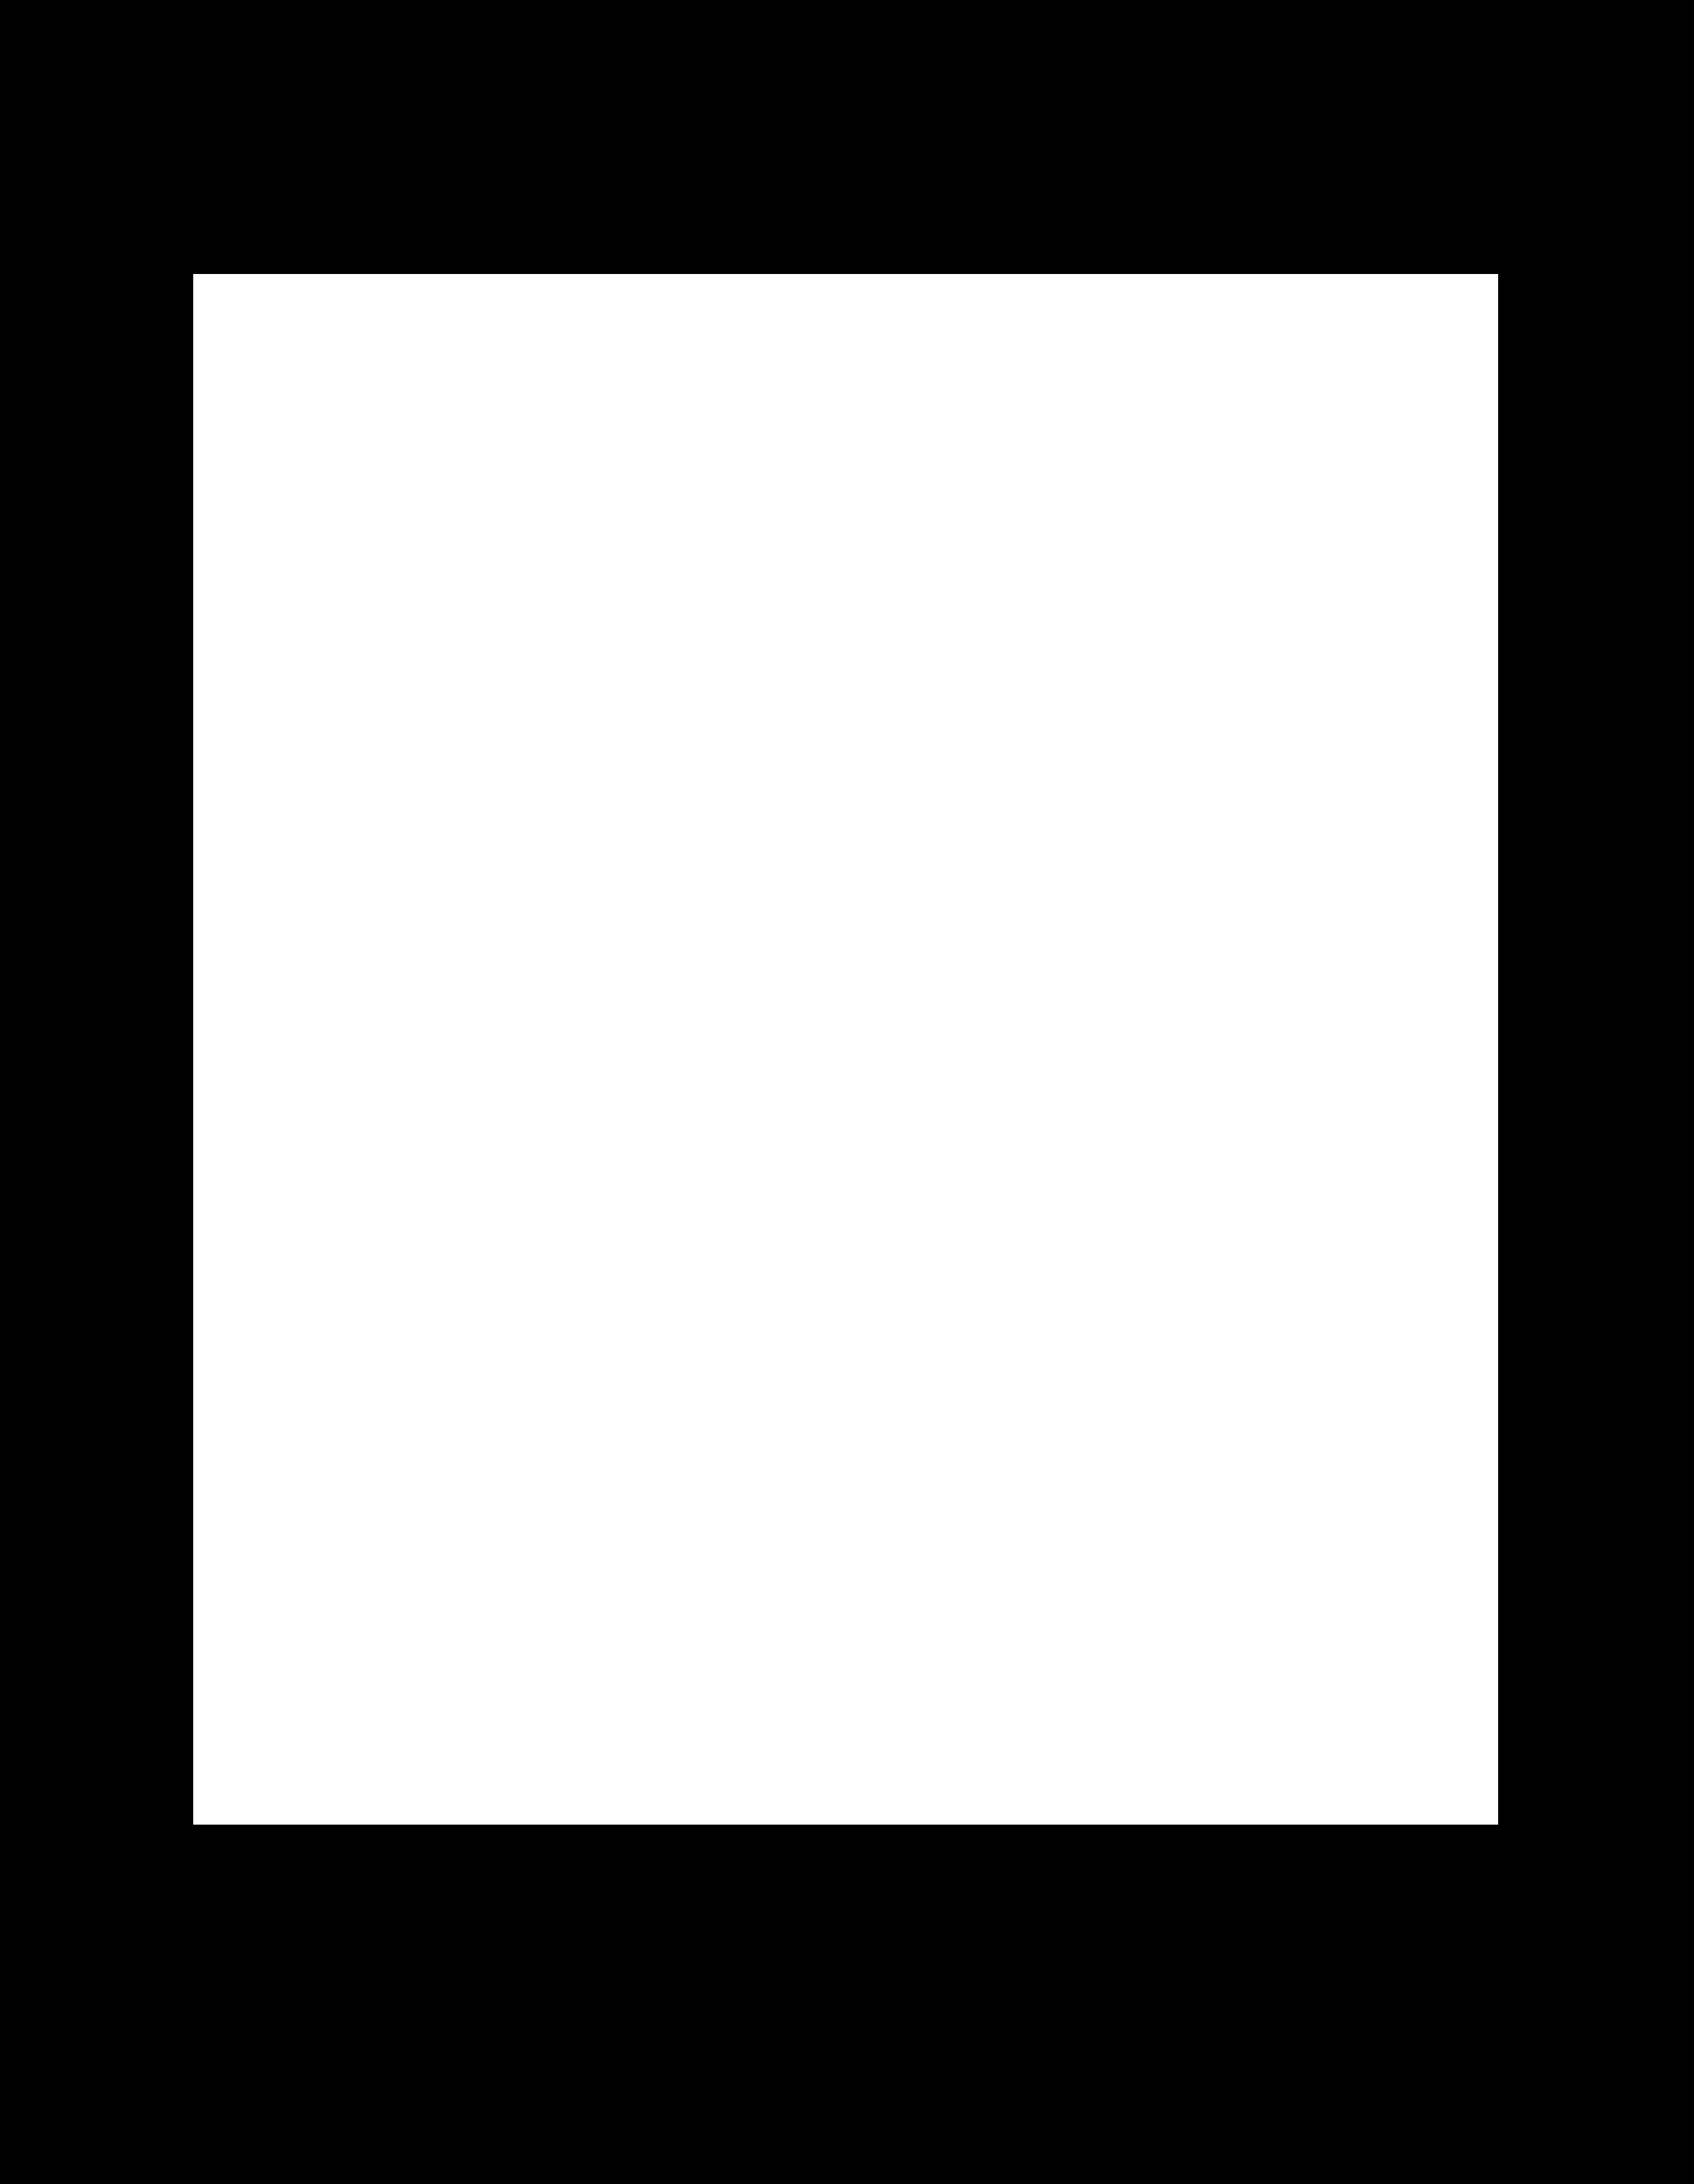table: (193, 275, 1497, 1824)
